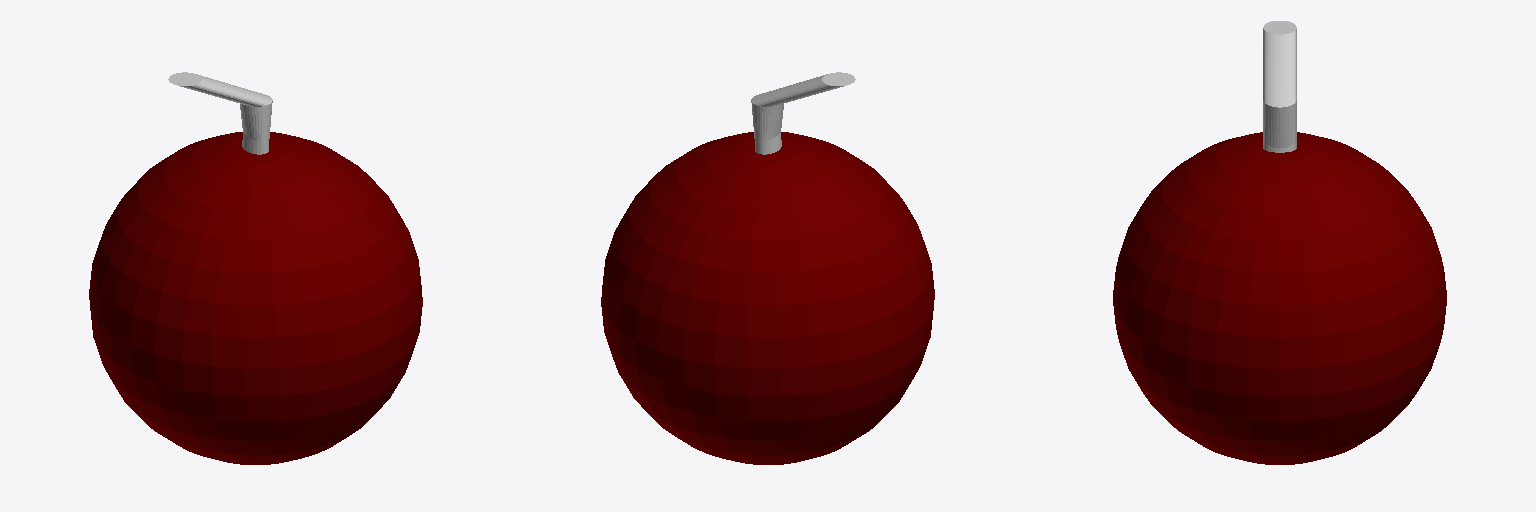
File: RedBomb.obj
3 views of the same model, side by side, from view 1: azimuth 30°, elevation 25°; view 2: azimuth 150°, elevation 25°; view 3: azimuth 270°, elevation 25° (orthographic).
Parts seen in each view (by area): view 1: 球_球.001, 円柱; view 2: 球_球.001, 円柱; view 3: 球_球.001, 円柱.
Part boxes in pixels (x1,y1,x2,y2): 球_球.001: (89, 132, 422, 464); 円柱: (168, 72, 272, 154); 球_球.001: (601, 132, 934, 464); 円柱: (751, 72, 855, 154); 球_球.001: (1113, 132, 1446, 464); 円柱: (1263, 21, 1296, 152).
Bounding box in the file's own units: 2 × 2.56 × 2.